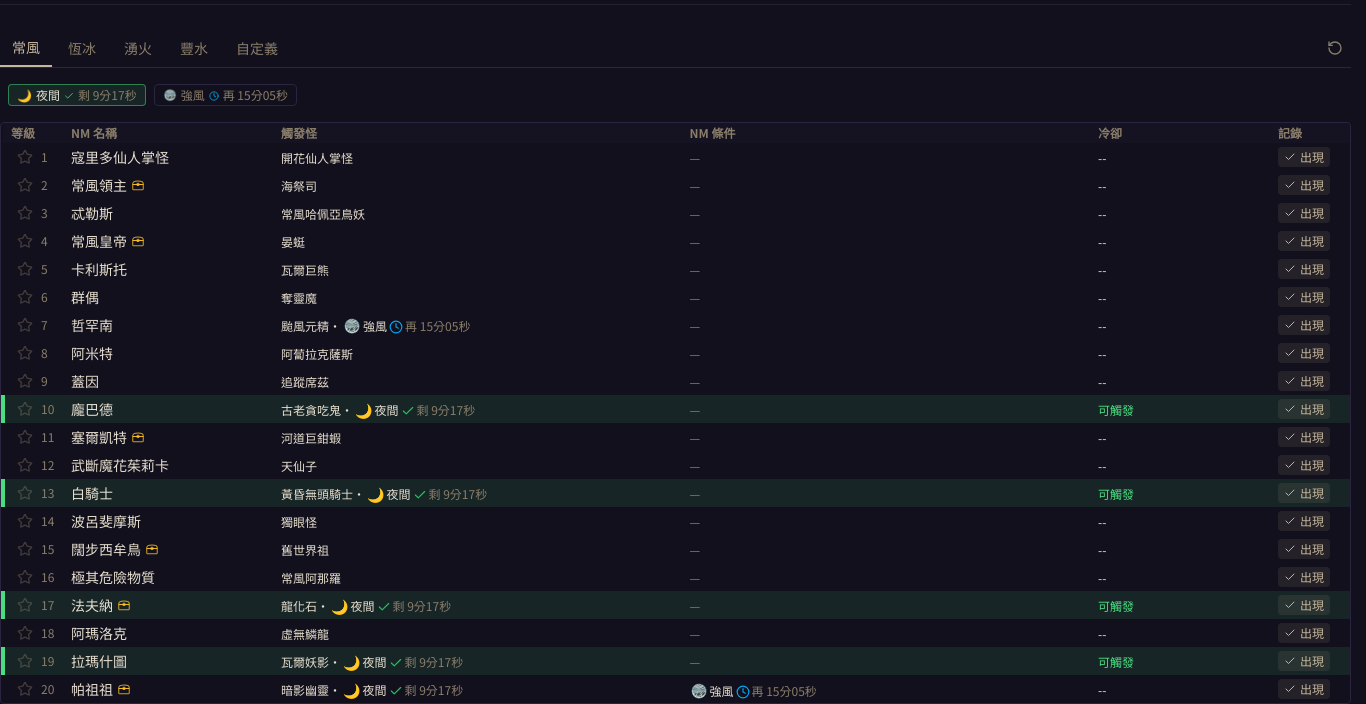
it: EurekaNmPage — 自定義 tab integration › unpinning from 自定義 tab removes the NM and updates original zone tab
(page scrolled)
Note: Pin Pazuzu
Click the button named "Pin 帕祖祖". click: (25, 689)
box: [13, 677, 37, 701]
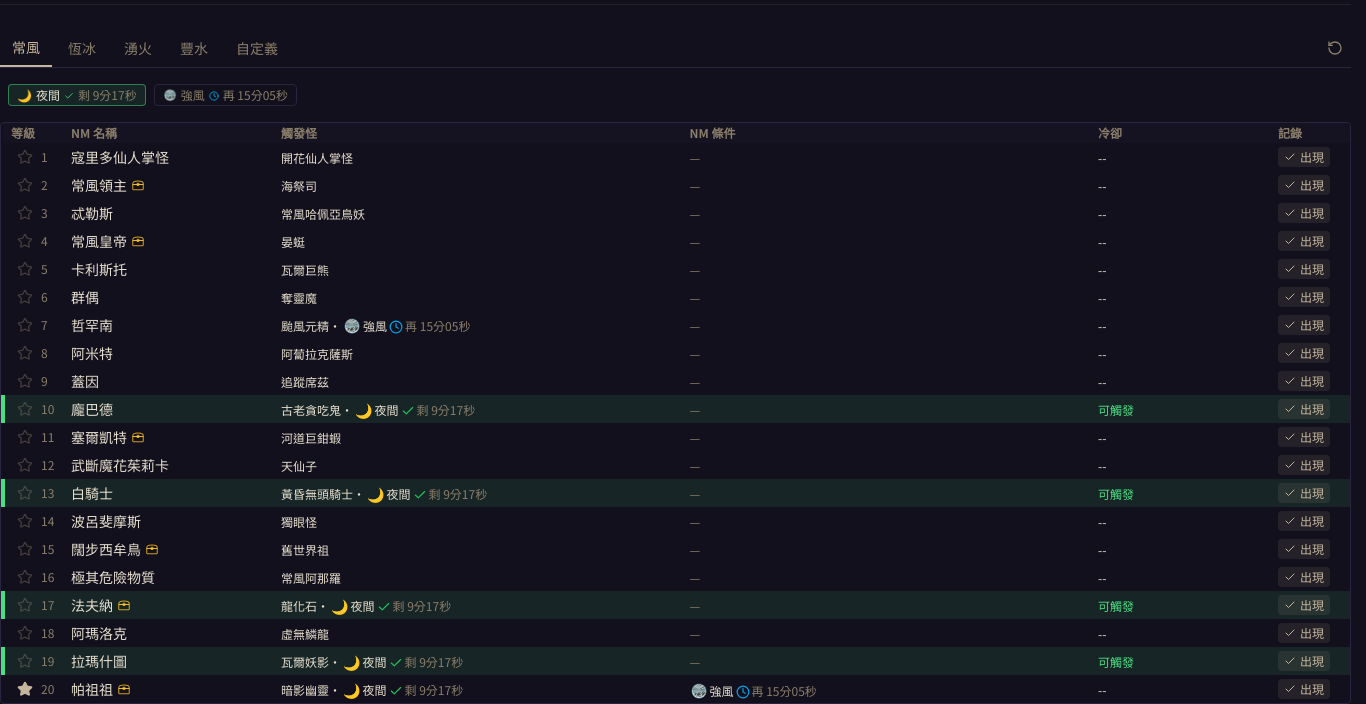
Note: Go to 自定義 tab
Click the tab "自定義". click: (257, 48)
box: [224, 29, 290, 67]
(page scrolled)
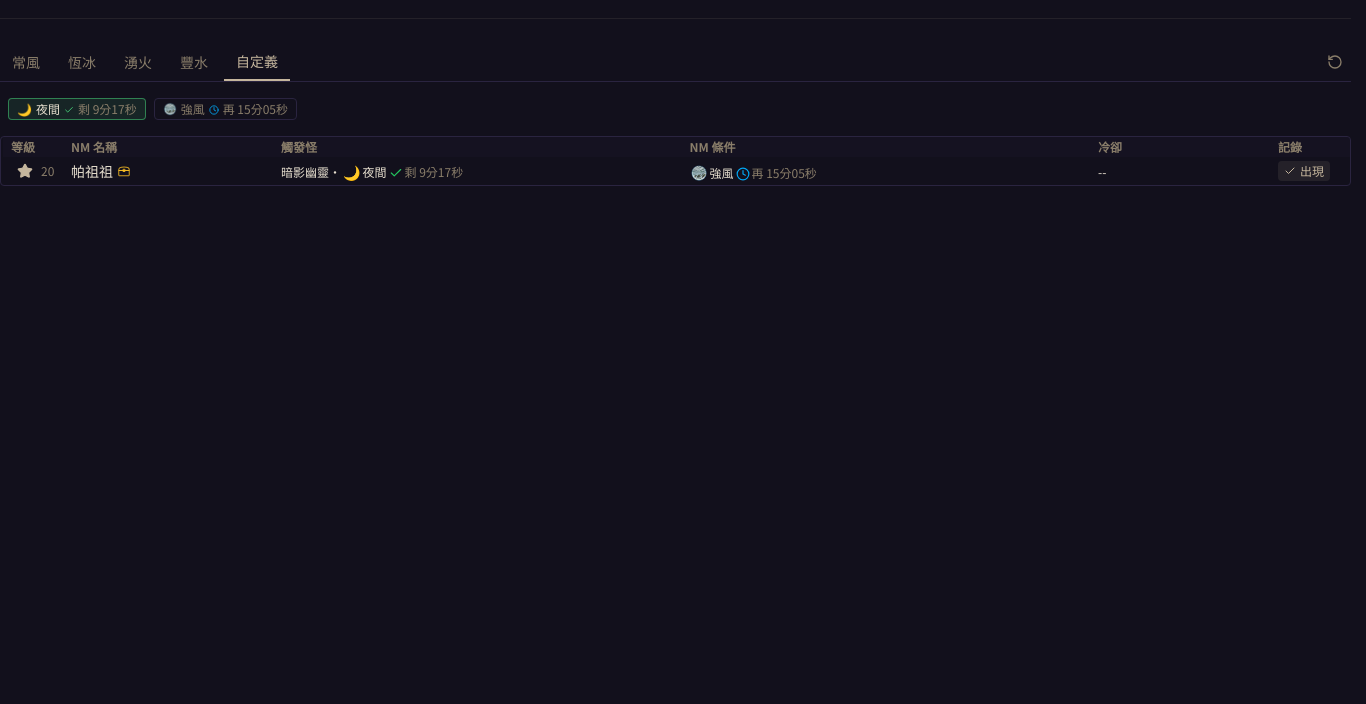
Check: the text "帕祖祖" is shown, box [71, 161, 113, 181]
Note: Unpin from 自定義 tab
Click the button named "Unpin 帕祖祖". click: (25, 171)
box: [13, 159, 37, 183]
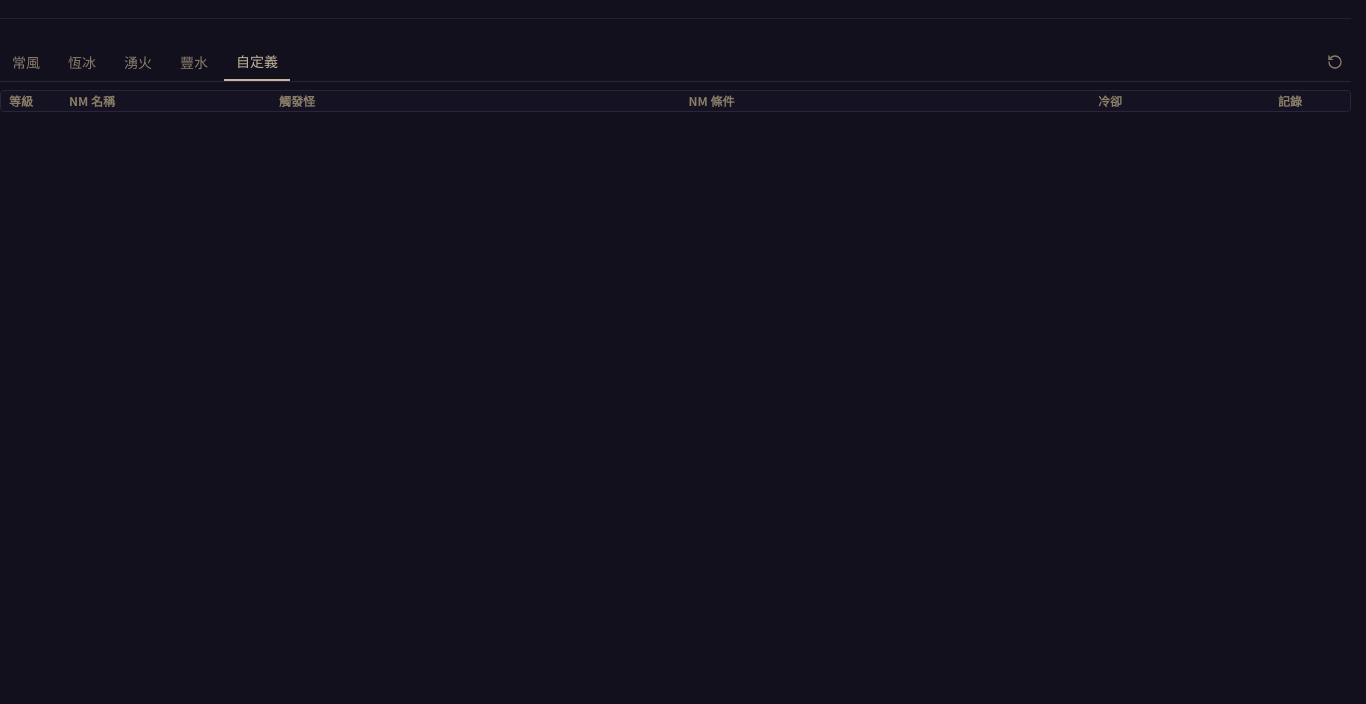
Check: the text "帕祖祖" is gone
Note: Going back to 常風 shows it (unpinned, ☆ empty)
Click the tab "常風". click: (26, 62)
box: [0, 43, 52, 81]
(page scrolled)
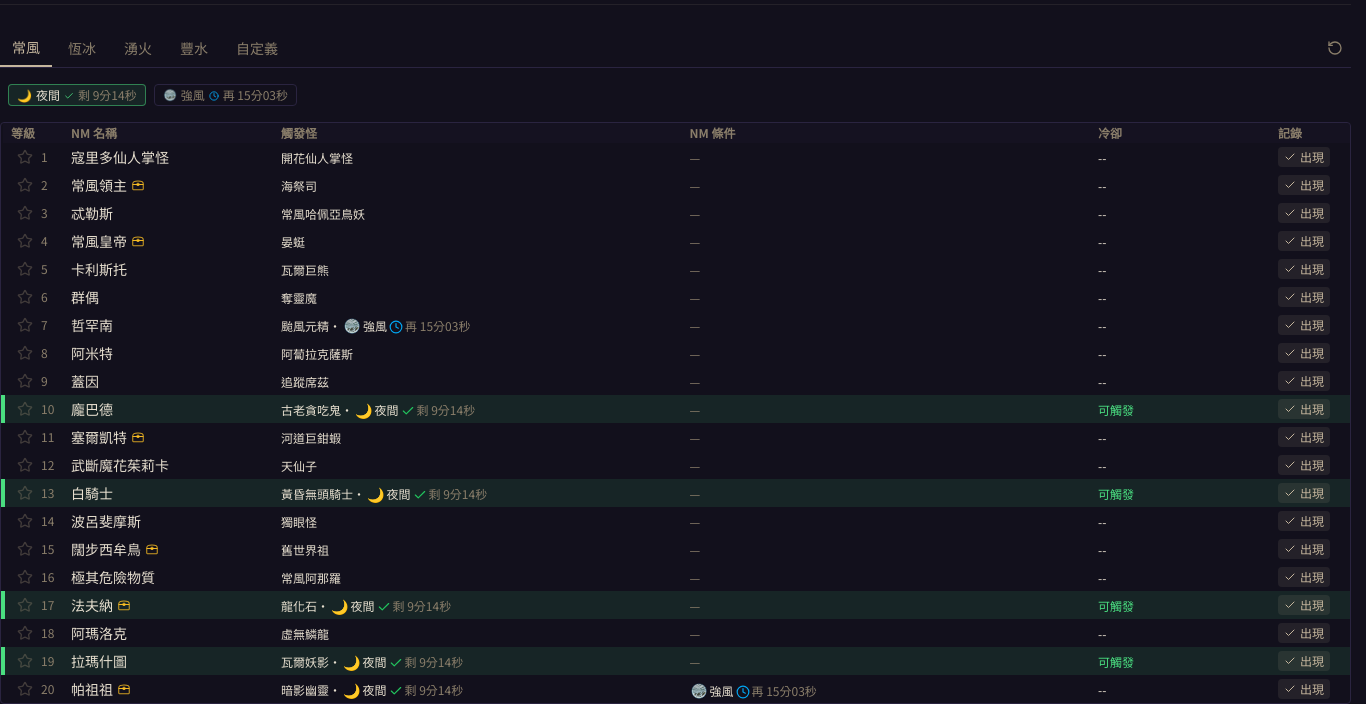
Check: the text "帕祖祖" is shown, box [71, 679, 113, 699]
Check: the button named "Pin 帕祖祖" is shown, box [13, 677, 37, 701]
